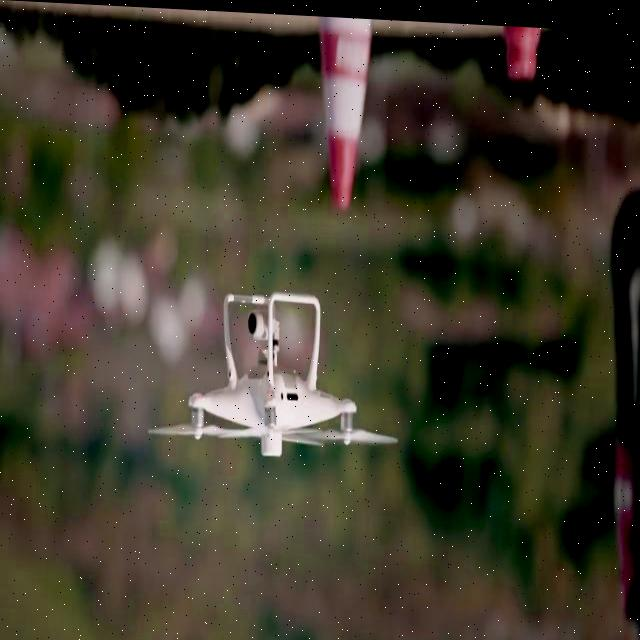drone: (144, 282, 400, 460)
